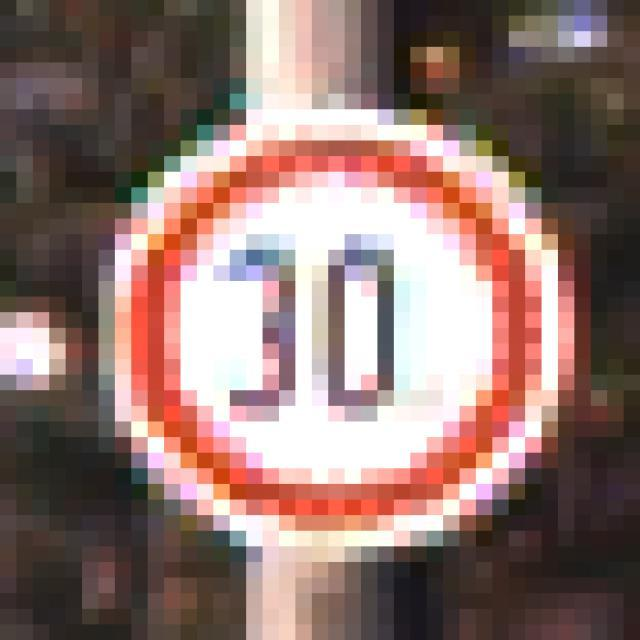Speed Limit -30-: (90, 86, 550, 554)
